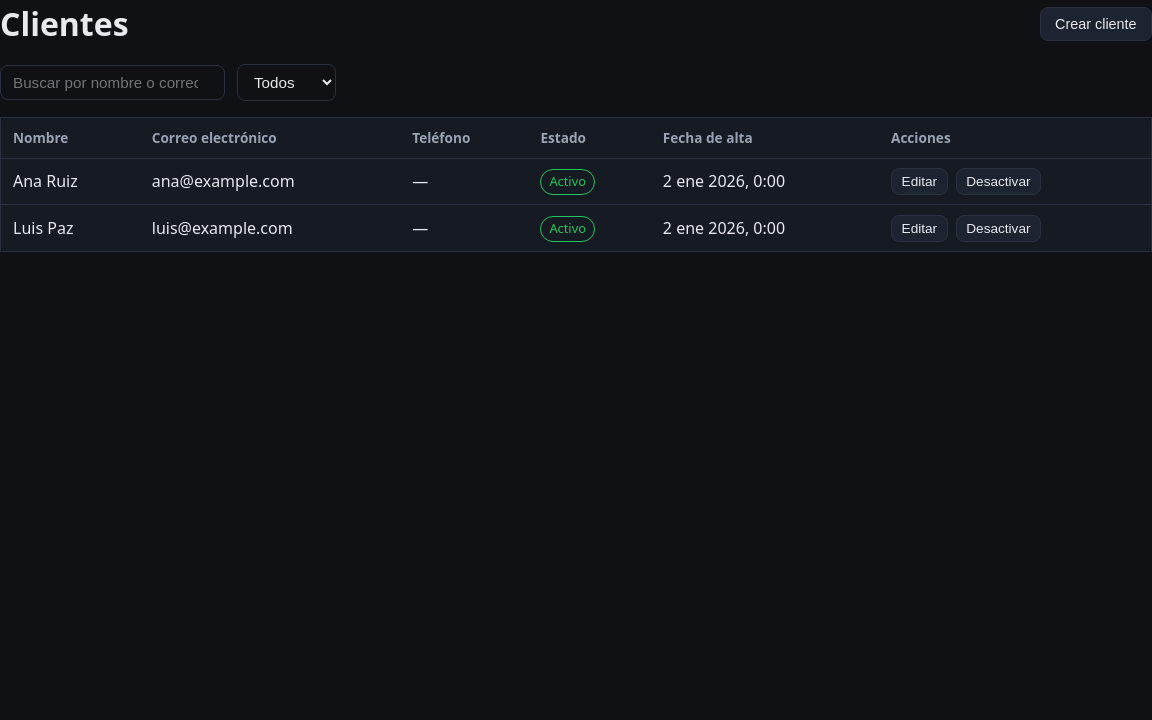
Test: R-UI-CRM-2: create customer form › R-UI-CRM-2: duplicate email → localized 409, form stays open with data intact
The image size is (1152, 720).
Expected: the text "Ana Ruiz" is shown, [0,158,140,205]
Click the button "Crear cliente": (1096, 24) [1040,7,1151,41]
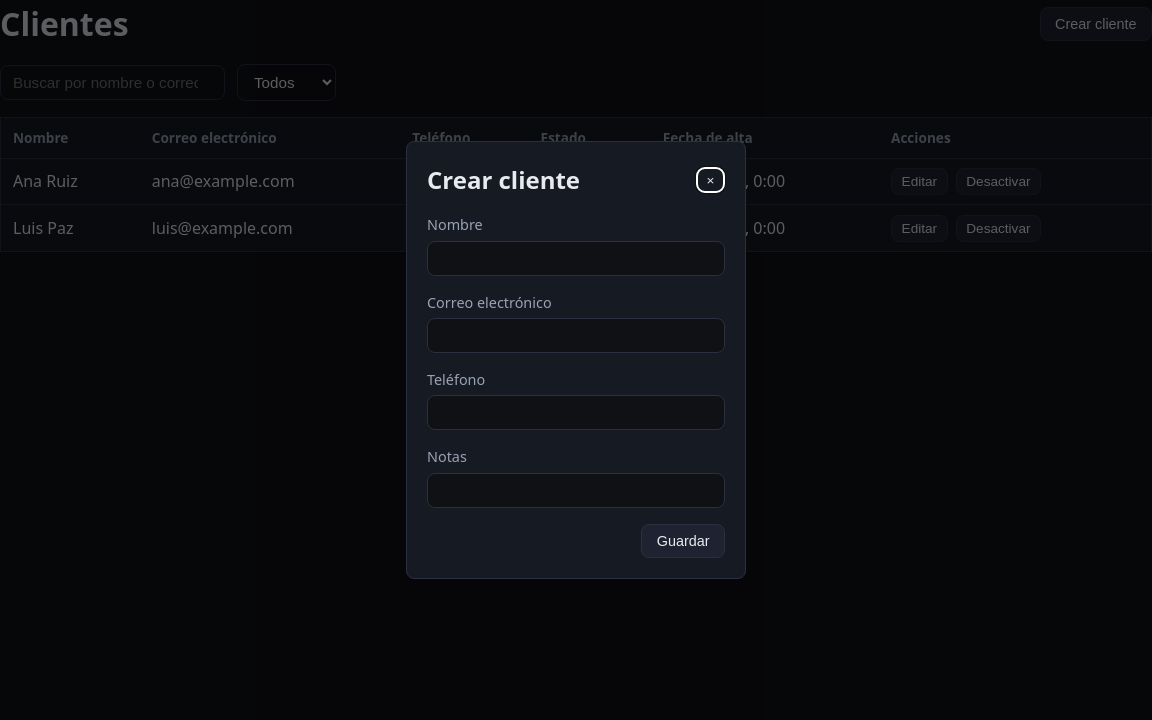
In the field labelled "Nombre": (576, 258) [427,241,725,276], type "Otra Ana"
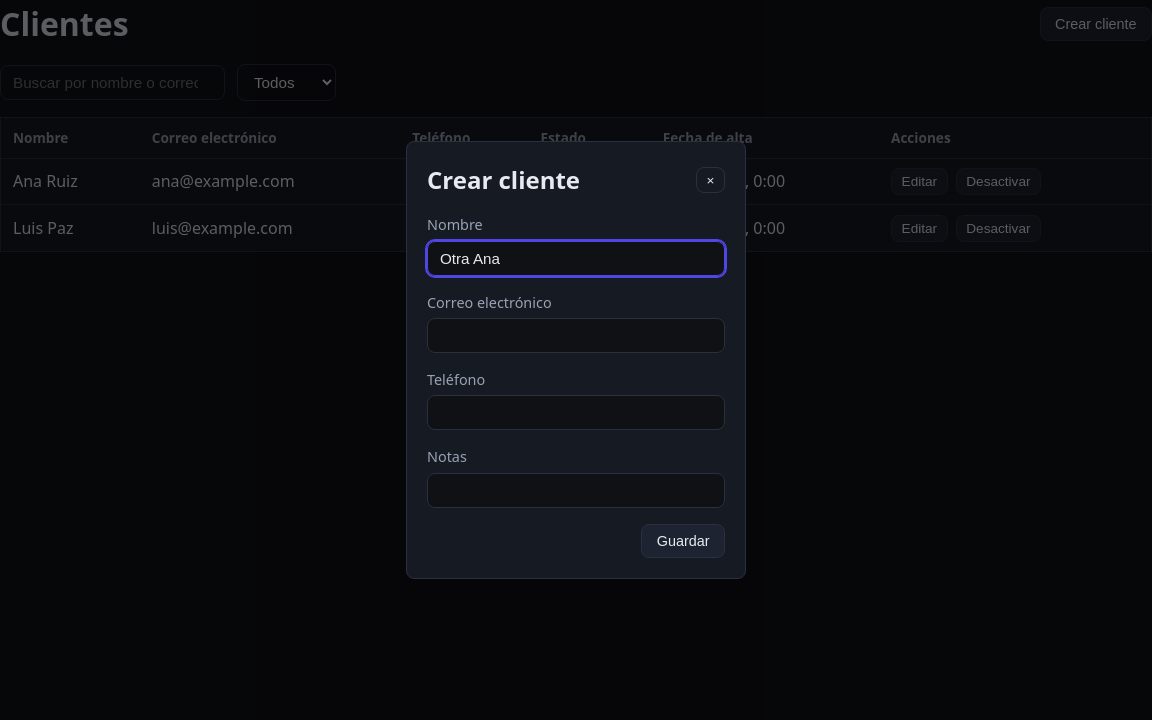
In the field labelled "Correo electrónico": (576, 336) [427,318,725,353], type "ana@example.com"
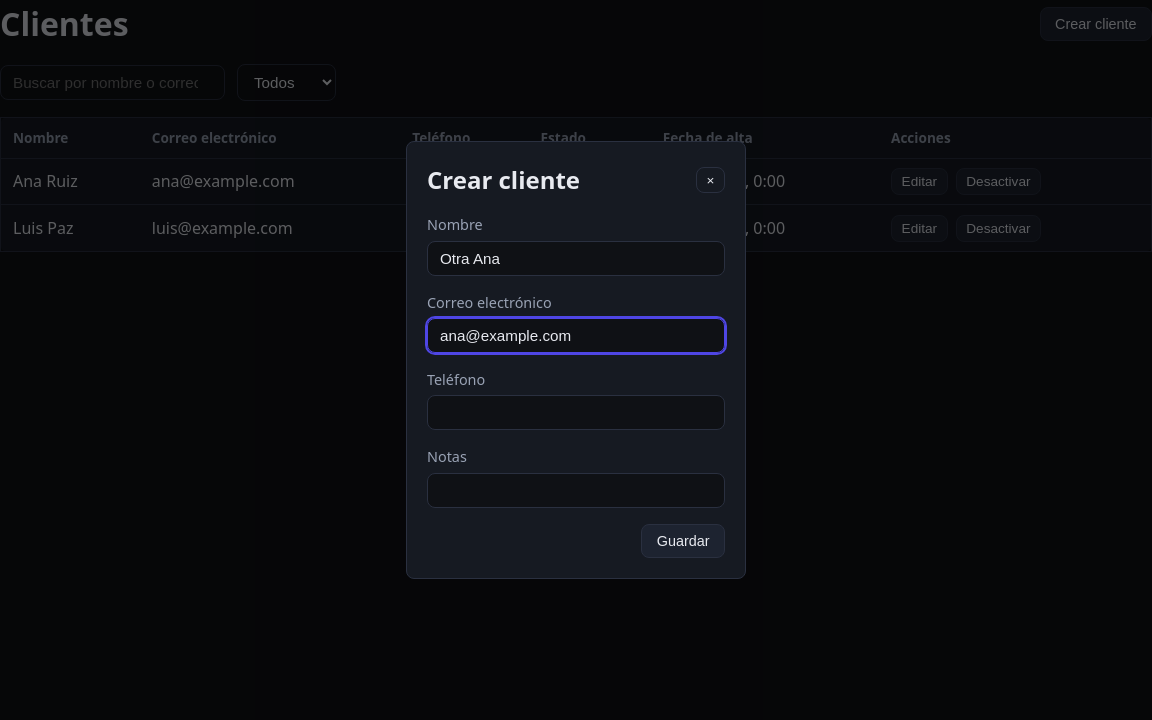
Click the button "Guardar": (683, 541) [641,524,725,558]
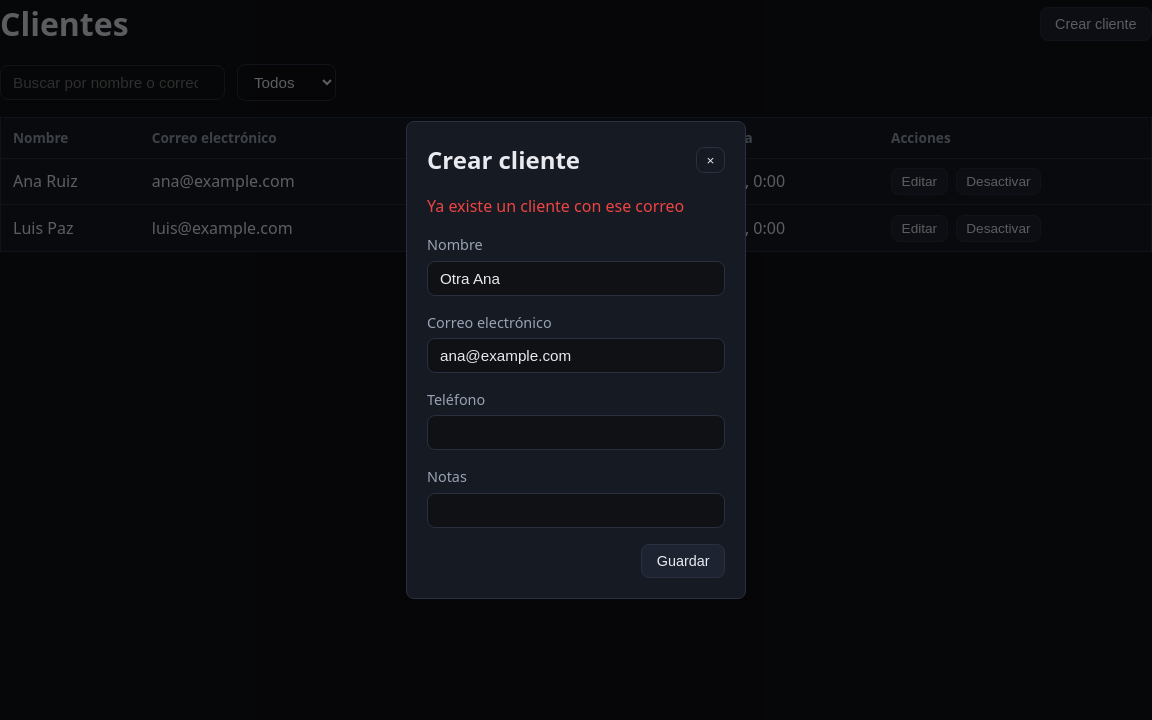
Expected: the text "Ya existe un cliente con ese correo" is shown, [427,194,725,218]
